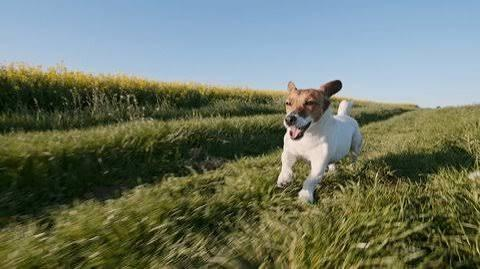adult_dog: (275, 80, 364, 206)
